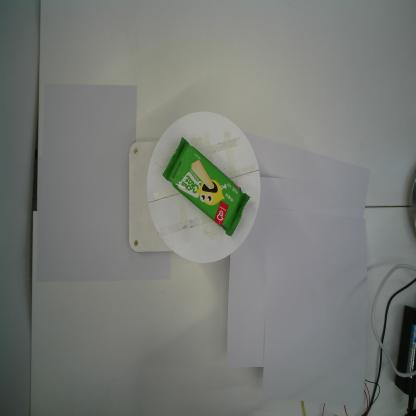Dessert: (162, 137, 251, 236)
